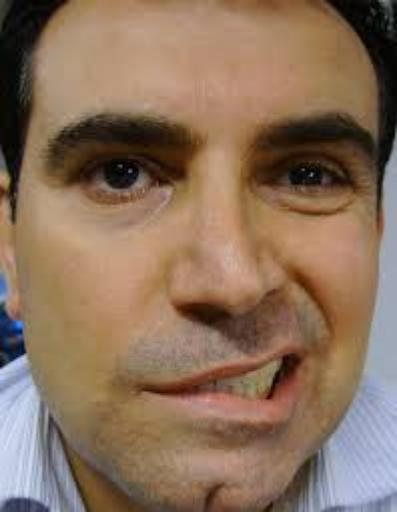left_eye: (262, 161, 352, 196)
left_lip_corner: (291, 345, 316, 375)
right_eye: (71, 158, 174, 205)
right_lip_corner: (135, 373, 178, 407)
